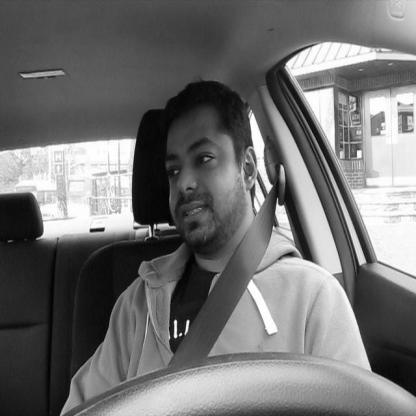seatbelt: (152, 72, 275, 359)
